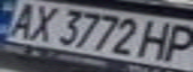2: (112, 15, 145, 58)
3: (51, 7, 84, 47)
7: (69, 9, 100, 51), (93, 11, 121, 54)
A: (0, 0, 42, 38)
H: (133, 17, 184, 61)
P: (154, 20, 193, 63)
X: (18, 2, 63, 43)
